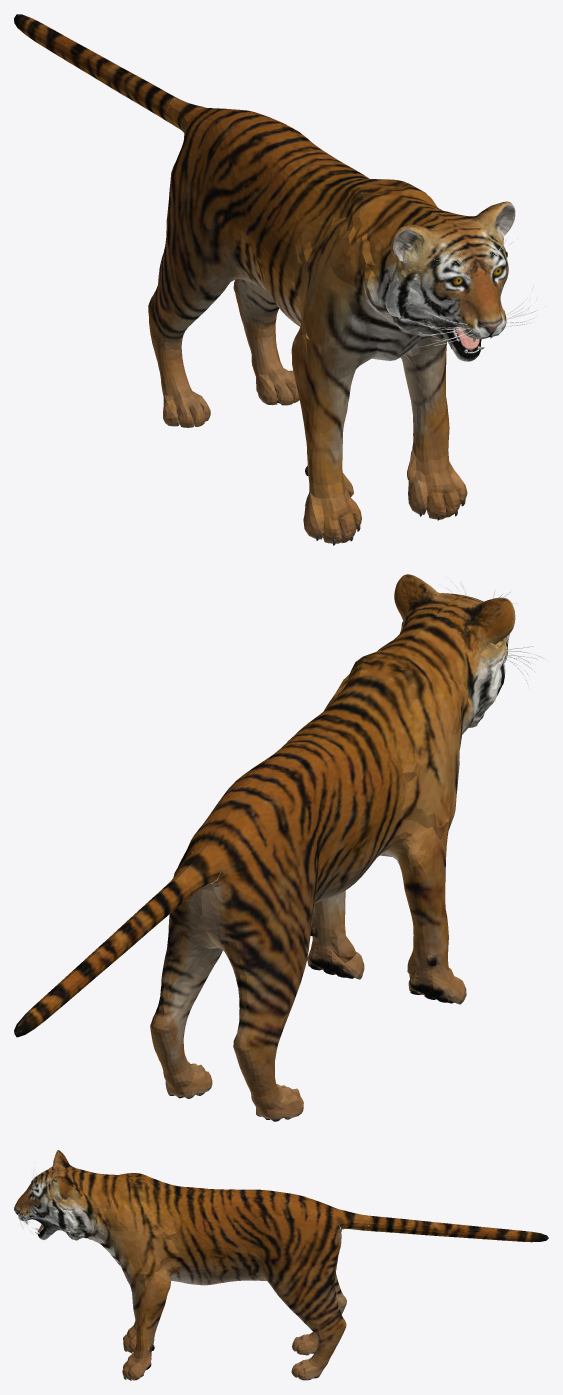
Rendered from tiger.glb.
3 renders of one model, top to bottom at view 1: azimuth 30°, elevation 25°; view 2: azimuth 150°, elevation 25°; view 3: azimuth 270°, elevation 25°, orthographic. The views are drawn at different scales.
Size of the model in its own units: 0.9217 by 2.03 by 4.91.
Materials: 1 (1 with a texture image).
